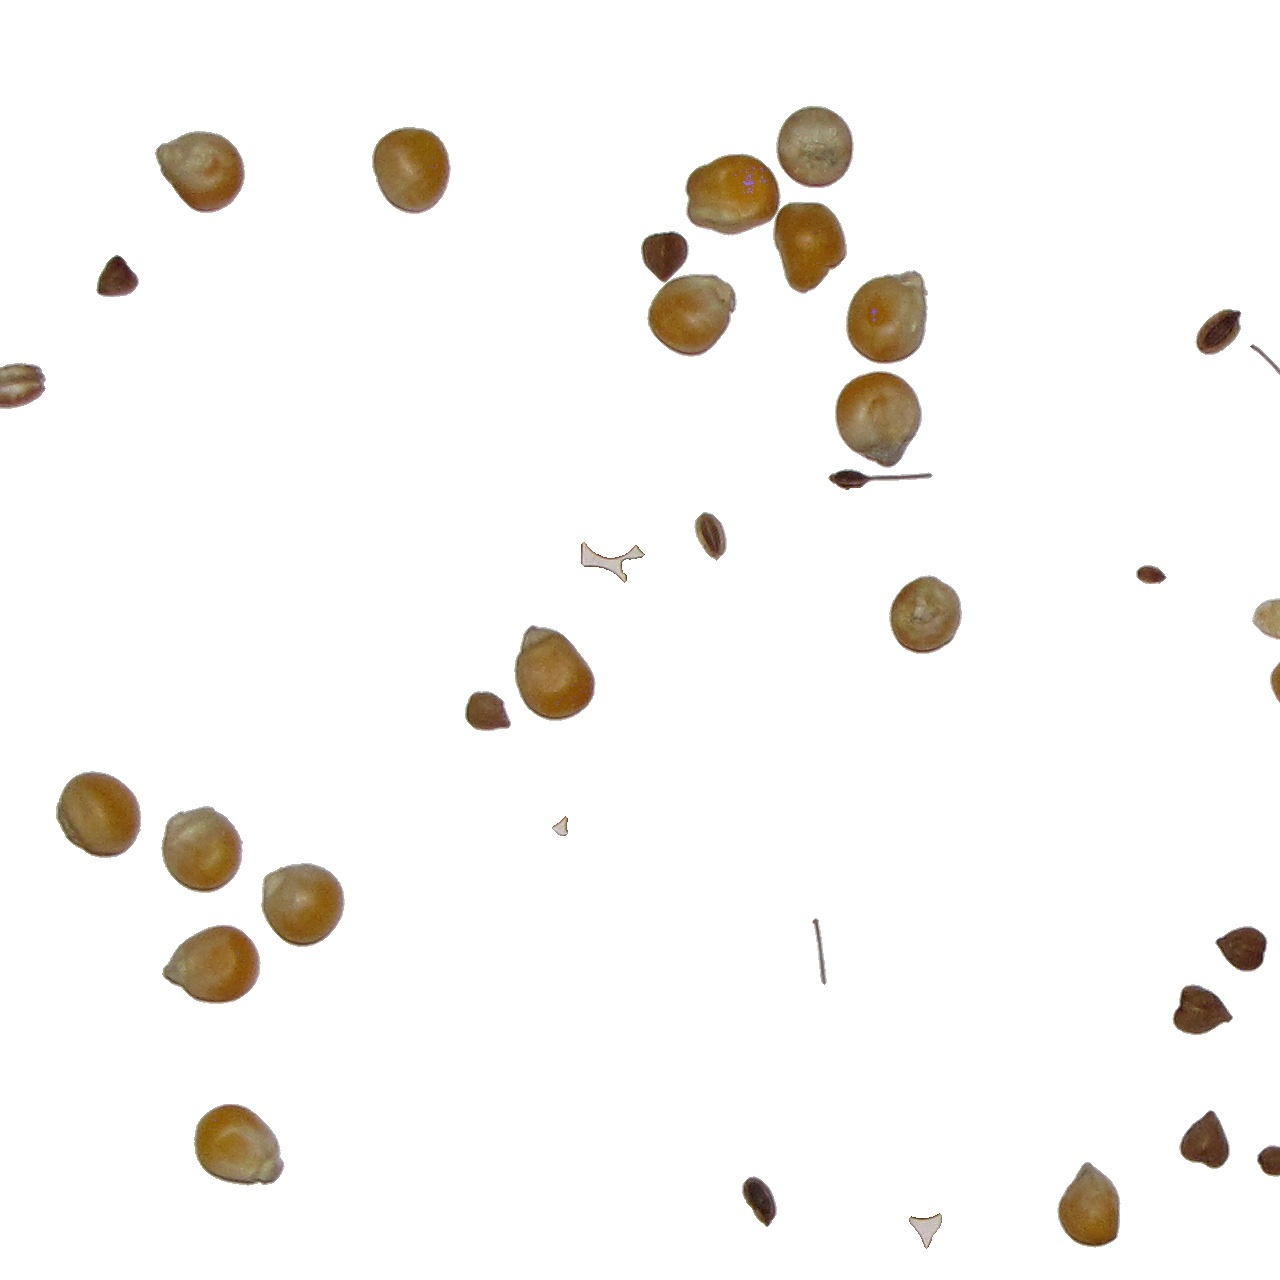buckwheat: (1171, 983, 1234, 1036), (1178, 1109, 1231, 1170), (640, 230, 690, 284), (1214, 925, 1269, 973), (1, 359, 49, 411), (1194, 308, 1242, 356), (741, 1175, 778, 1228), (95, 254, 139, 298), (908, 1212, 942, 1250), (811, 917, 828, 986), (551, 815, 568, 837)
dill: (574, 542, 640, 584), (693, 511, 728, 561), (1135, 564, 1167, 585)
mais: (835, 370, 922, 469), (161, 924, 263, 1005), (685, 152, 782, 237), (513, 624, 597, 722), (845, 268, 930, 365), (154, 130, 246, 215), (646, 273, 738, 358), (193, 1103, 286, 1187), (55, 770, 142, 859), (159, 805, 244, 894), (260, 862, 346, 948), (372, 125, 452, 215), (772, 200, 847, 295), (775, 105, 855, 189), (888, 574, 964, 655), (1056, 1160, 1122, 1250), (1269, 644, 1280, 729)
other: (828, 468, 934, 491), (464, 690, 512, 731), (1251, 597, 1280, 644), (1251, 1144, 1280, 1182), (1250, 343, 1280, 377)
